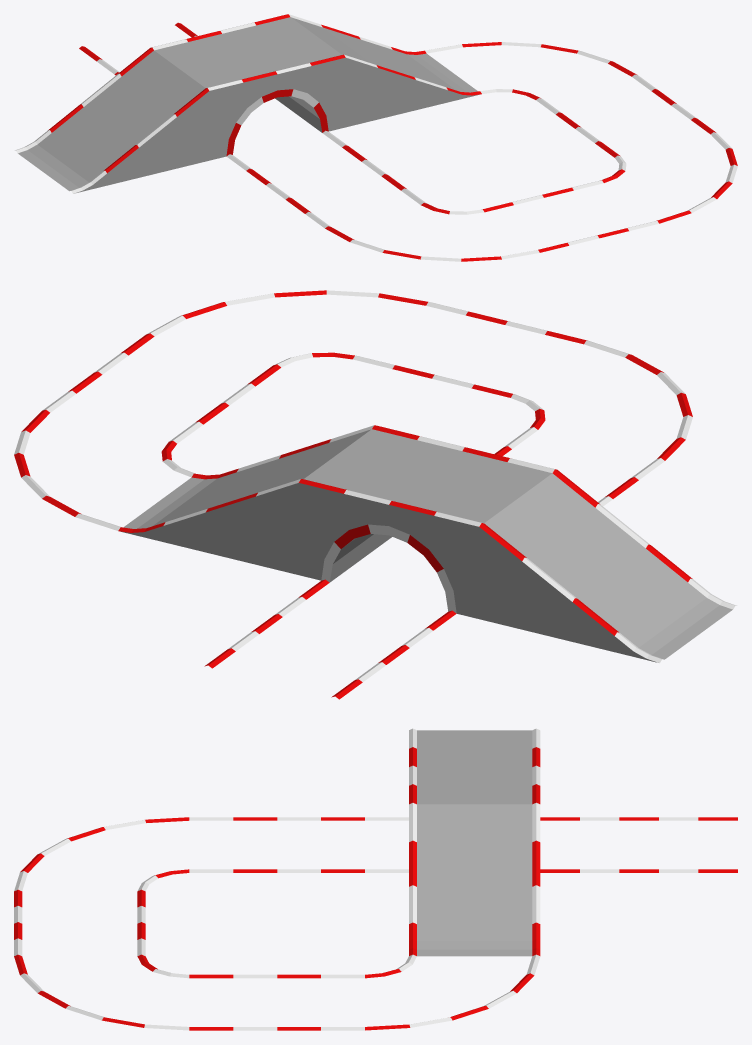
File: Road_tunel_loop.fbx
3 renders of one model, top to bottom at view 1: azimuth 30°, elevation 25°; view 2: azimuth 150°, elevation 25°; view 3: azimuth 270°, elevation 25°, orthographic. The views are drawn at different scales.
Visible parts, largest first — view 1: Road_Tunel_loop; view 2: Road_Tunel_loop; view 3: Road_Tunel_loop.
Part boxes in pixels (<box>): Road_Tunel_loop: <box>15,14,737,261</box>; Road_Tunel_loop: <box>14,290,736,699</box>; Road_Tunel_loop: <box>14,728,737,1030</box>.
Bounding box in the file's own units: 1200 × 150 × 1237.
